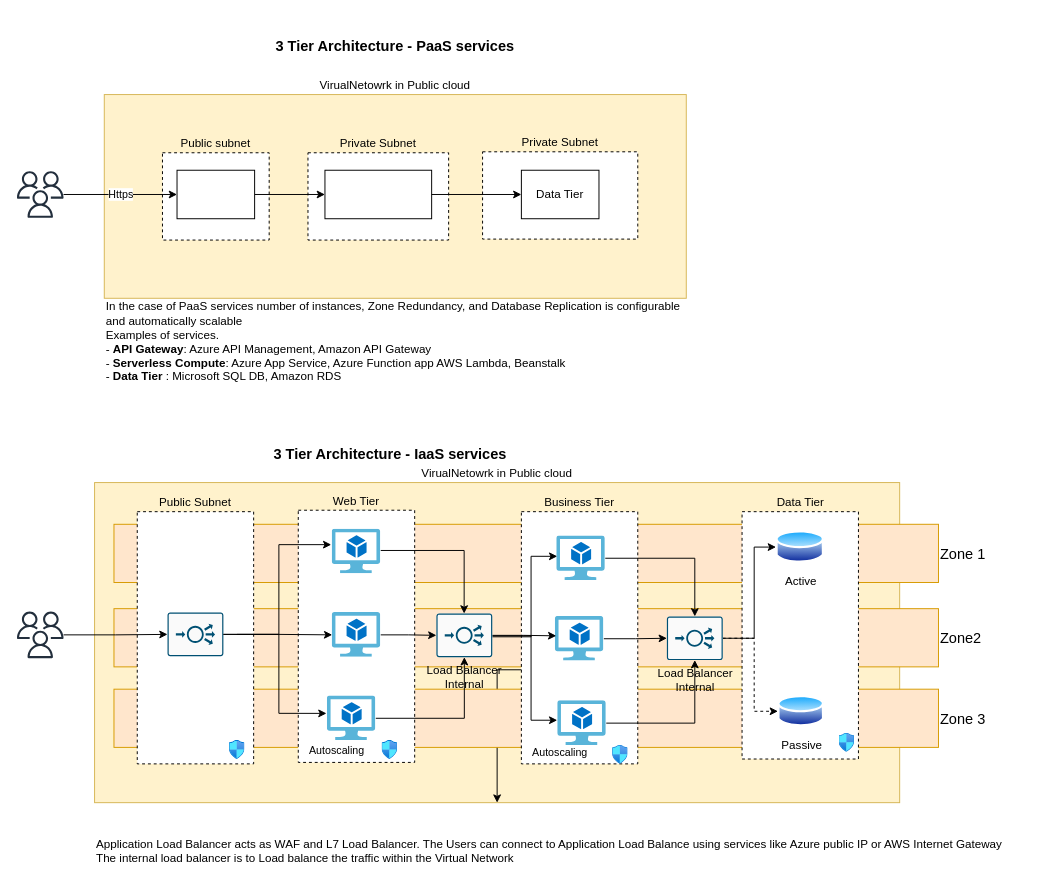
The diagram is 1042 pixels wide and 887 high, and some of its shapes have lost their labels. The centre of each missing label's shape, as x and y in pixels:
"API Gateway" belongs at (215,194).
"Application Load balancer (external)" belongs at (195,634).
"Serverless Compute Business Tier" belongs at (378,194).
